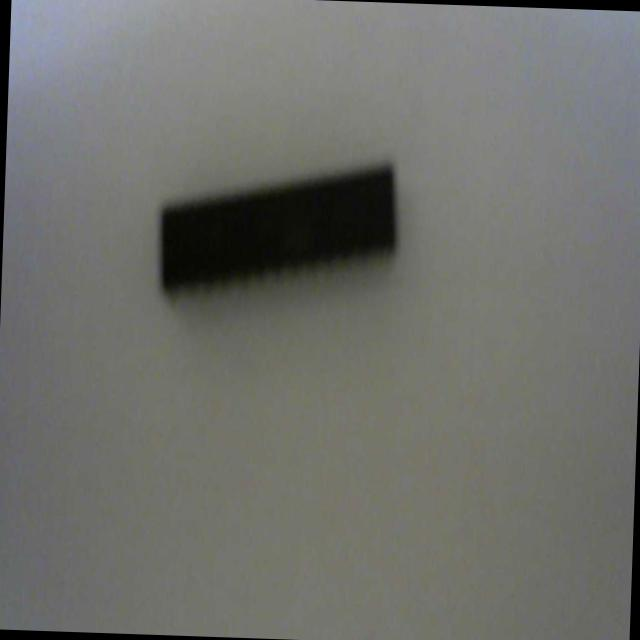atmega: (154, 148, 402, 308)
